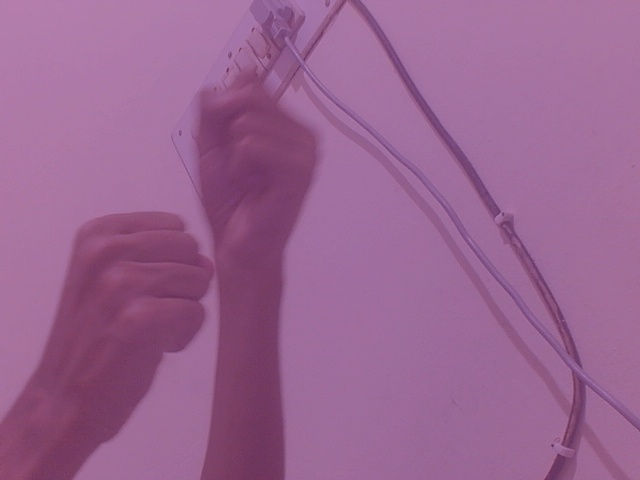hand: (35, 206, 218, 450), (194, 67, 328, 289)
